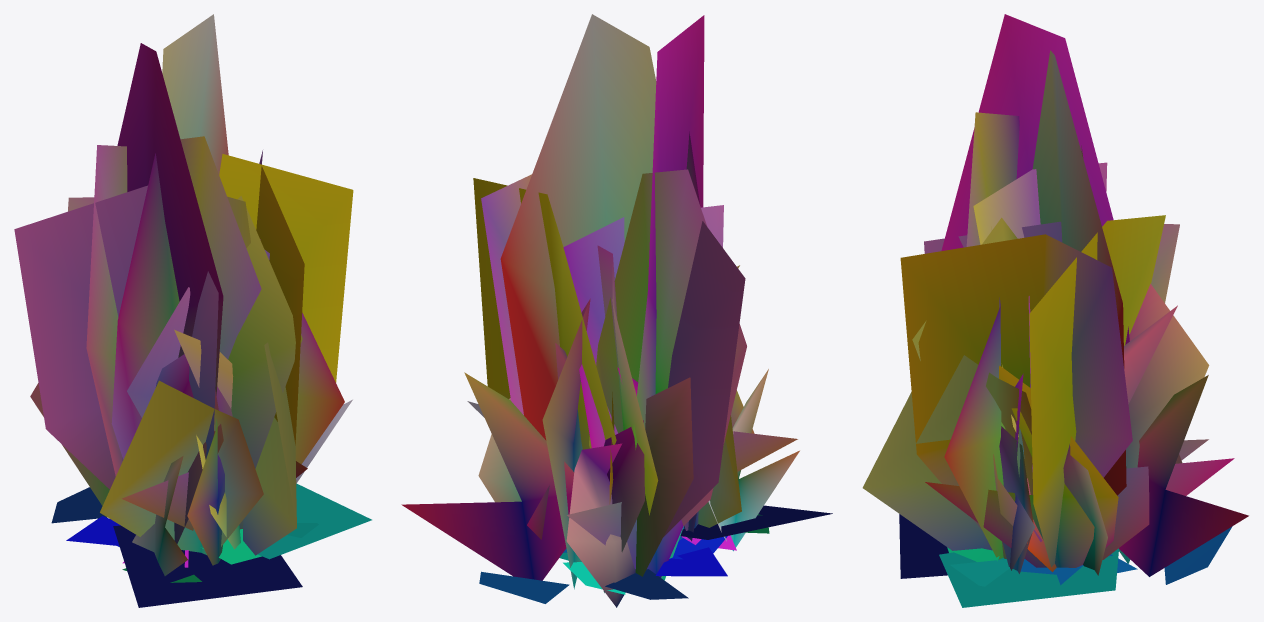
File: Kikuyu_Grass_wiljearqx_High_wiljearqx_VarA_LOD2.fbx
3 renders of one model, left to right at view 1: azimuth 30°, elevation 25°; view 2: azimuth 150°, elevation 25°; view 3: azimuth 270°, elevation 25°, orthographic. The views are drawn at different scales.
Parts seen in each view (by area): view 1: _dw2o_VarA_LOD5; view 2: _dw2o_VarA_LOD5; view 3: _dw2o_VarA_LOD5.
Boxes of the visible parts, <box> form: _dw2o_VarA_LOD5: <box>14,14,371,607</box>; _dw2o_VarA_LOD5: <box>401,14,832,607</box>; _dw2o_VarA_LOD5: <box>862,14,1248,607</box>.
Size of the model in its own units: 31.6 by 52.38 by 35.06.
